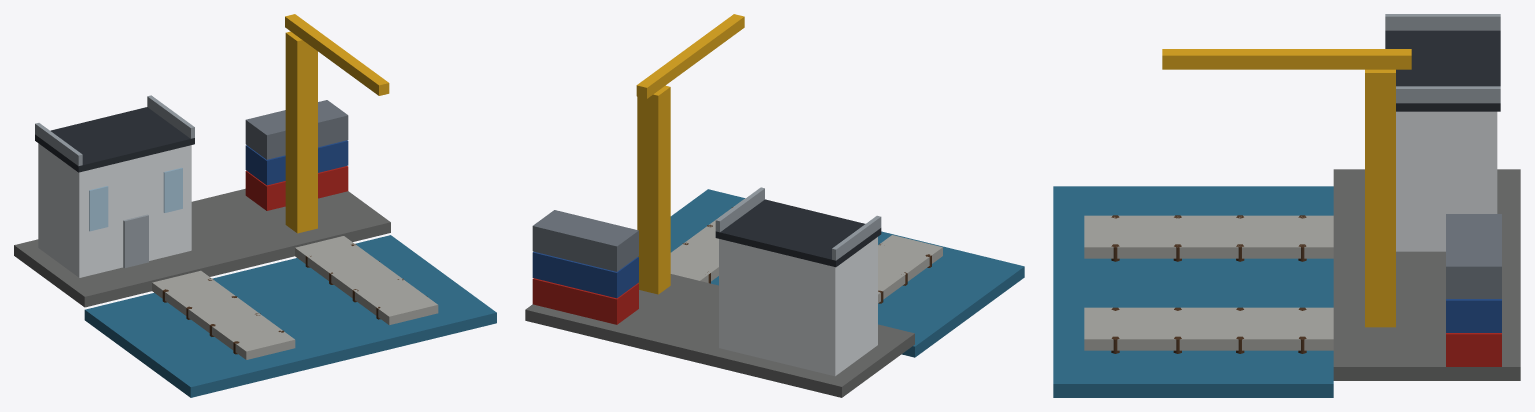
File: bld_special_port_a08_lod1.glb
The picture shows the model from 3 angles, left to right: view 1: azimuth 30°, elevation 25°; view 2: azimuth 150°, elevation 25°; view 3: azimuth 270°, elevation 25°; orthographic projection. The views are drawn at different scales.
Visible parts, largest first — view 1: body, crane; view 2: body, crane; view 3: body, crane.
Boxes of the visible parts, box(x1,y1,x2,y2) form: body: box(14, 95, 496, 397); crane: box(285, 14, 389, 233); body: box(525, 187, 1024, 397); crane: box(636, 14, 744, 294); body: box(1053, 14, 1520, 397); crane: box(1162, 49, 1411, 327).
Bounding box in the file's own units: 15 × 10.9 × 15.
